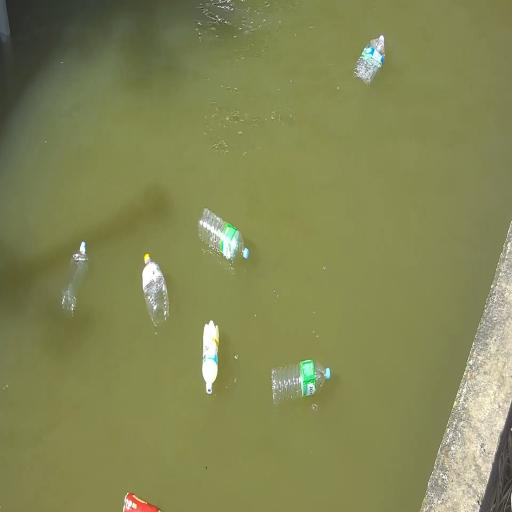plastic: (272, 359, 330, 404), (199, 209, 249, 261), (142, 254, 169, 326), (62, 242, 88, 314), (354, 35, 385, 84), (203, 320, 218, 394), (124, 490, 160, 512)
